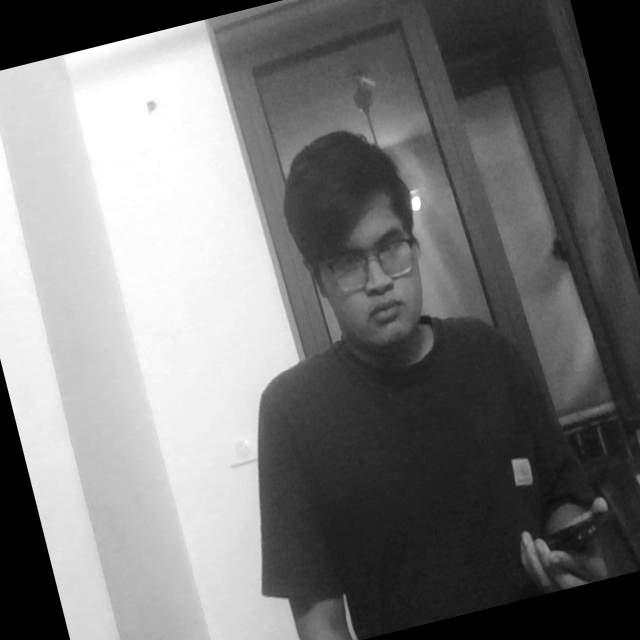phone: (506, 486, 637, 586)
